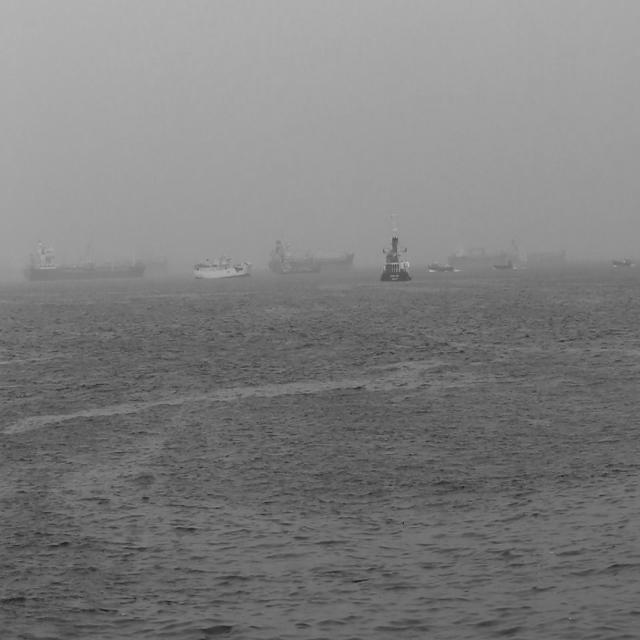ship: (25, 238, 146, 278), (270, 240, 356, 276), (382, 212, 412, 284), (193, 253, 254, 280), (448, 246, 516, 264), (429, 262, 456, 274), (494, 260, 516, 272), (613, 256, 633, 268)
